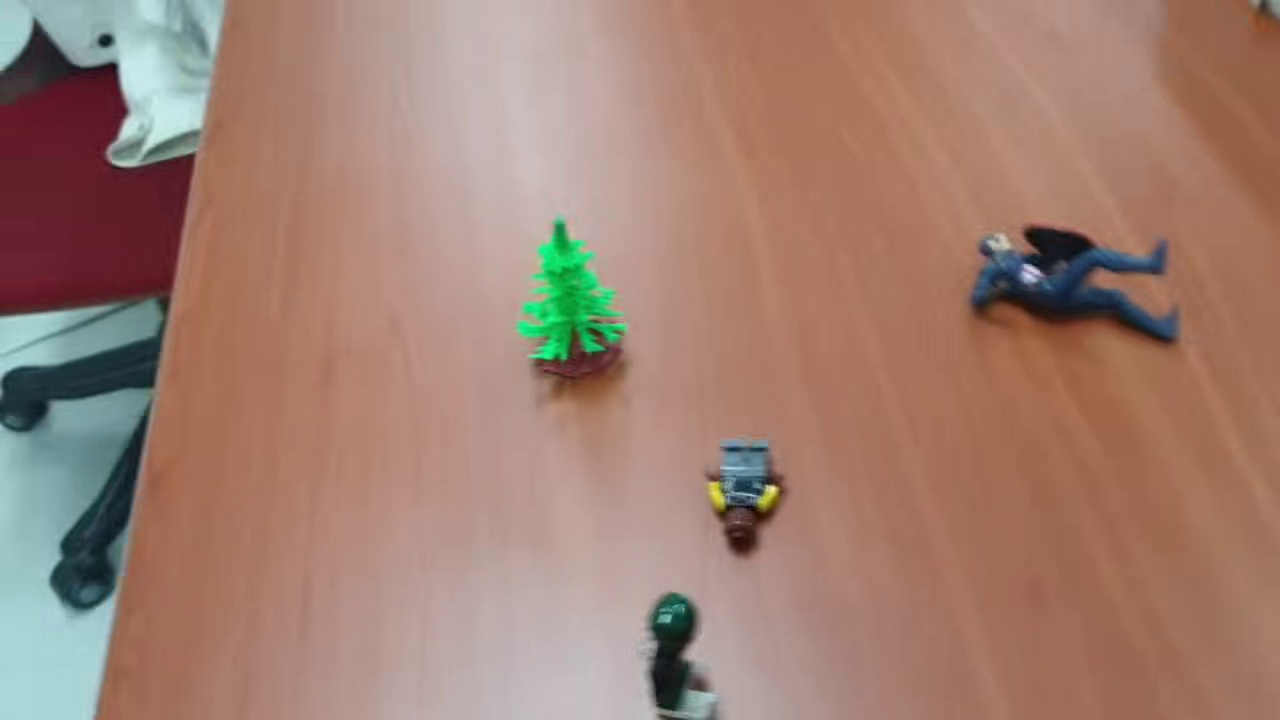people: (970, 219, 1183, 349), (703, 435, 782, 559), (647, 589, 720, 720)
tree: (514, 218, 628, 387)
